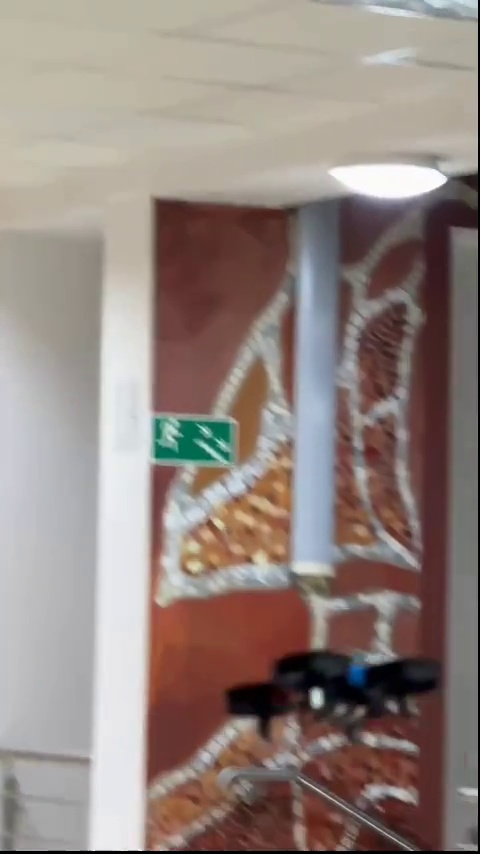drone: (218, 654, 434, 728)
